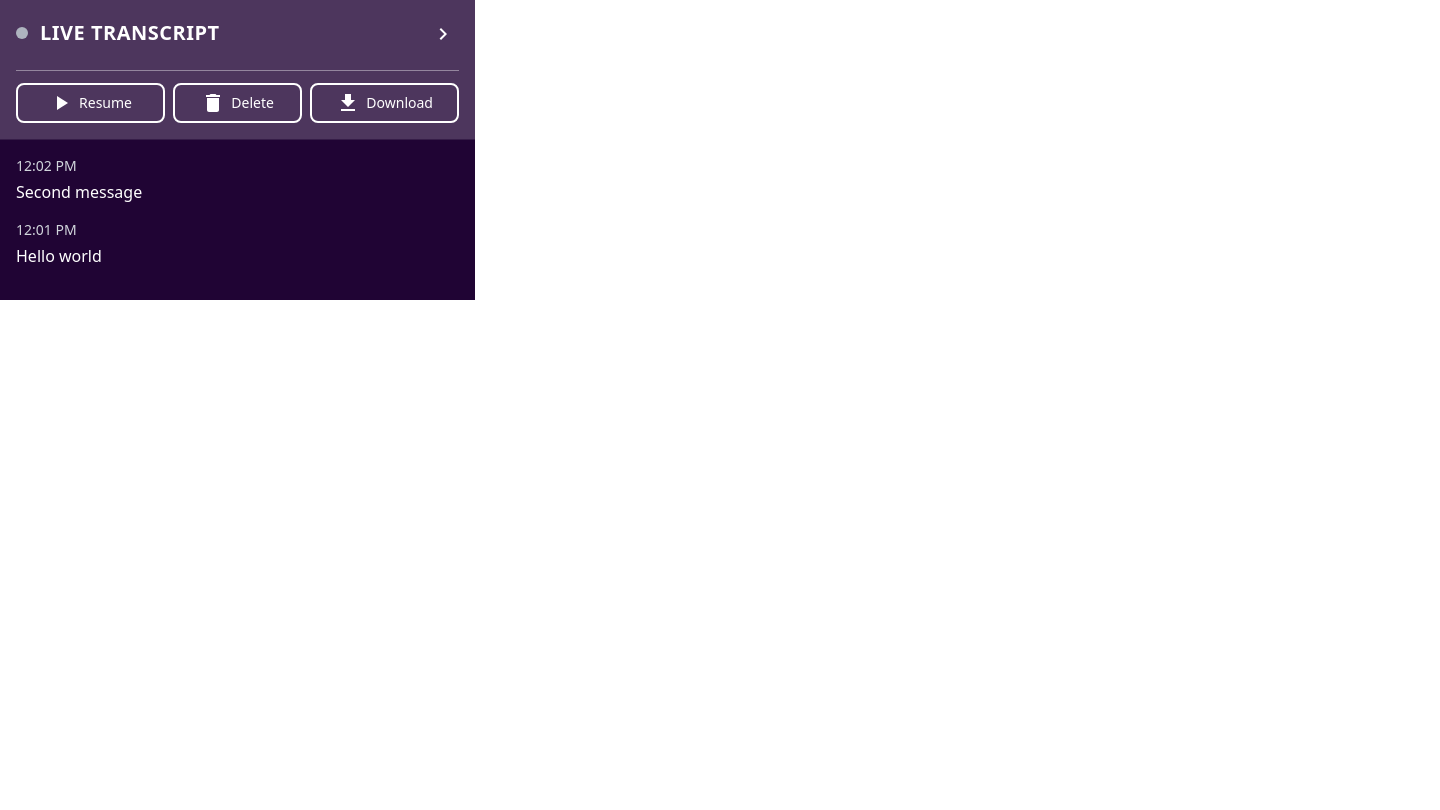
Test: Transcript › Transcript Controls › closes confirmation modal when cancel is clicked
Click the button with aria-label "Delete transcript": (238, 103) [173, 83, 302, 123]
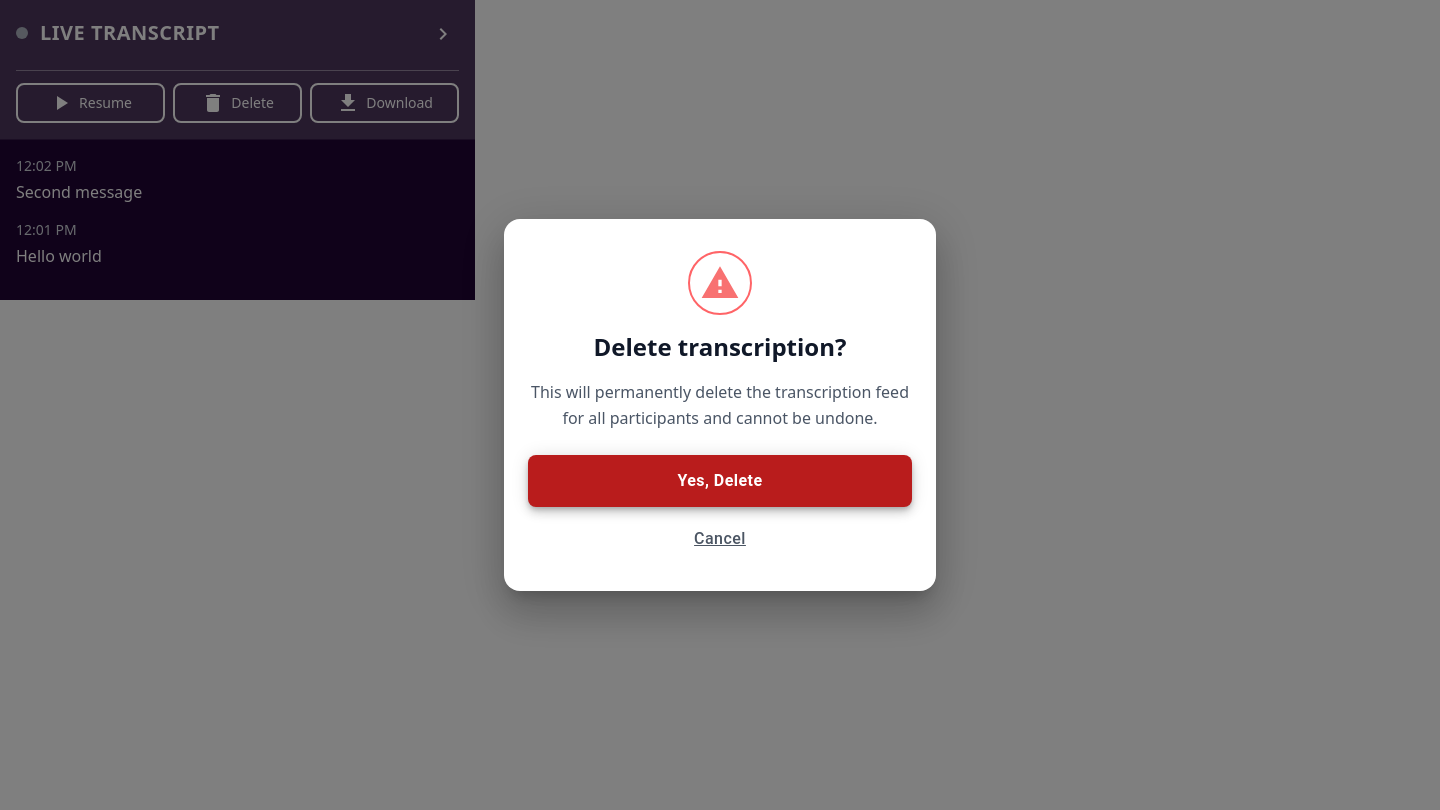
expect the heading "Delete transcription?" is shown: met, box [594, 331, 846, 363]
Click the button "Cancel": (720, 539) [528, 519, 912, 559]
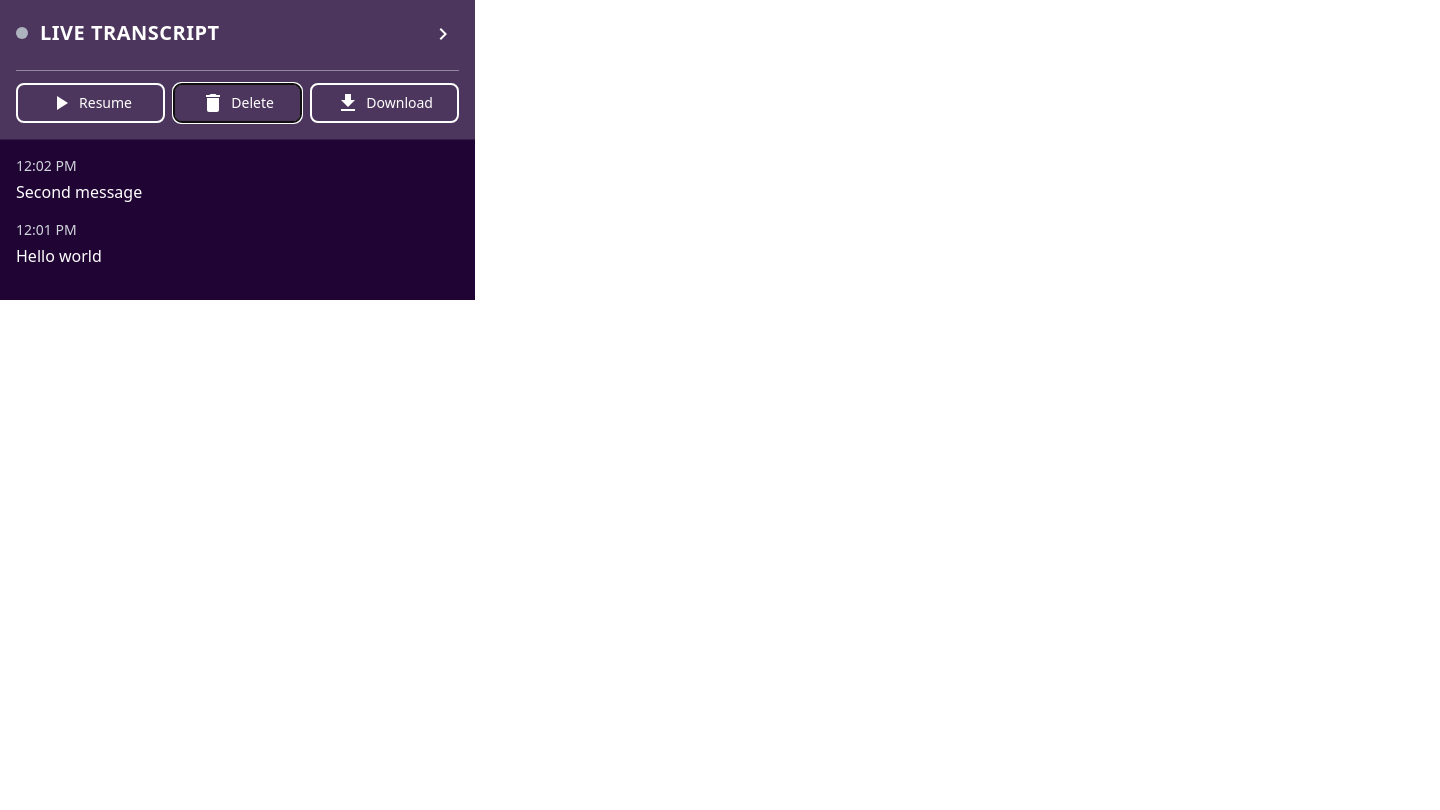
expect the heading "Delete transcription?" is gone: met
